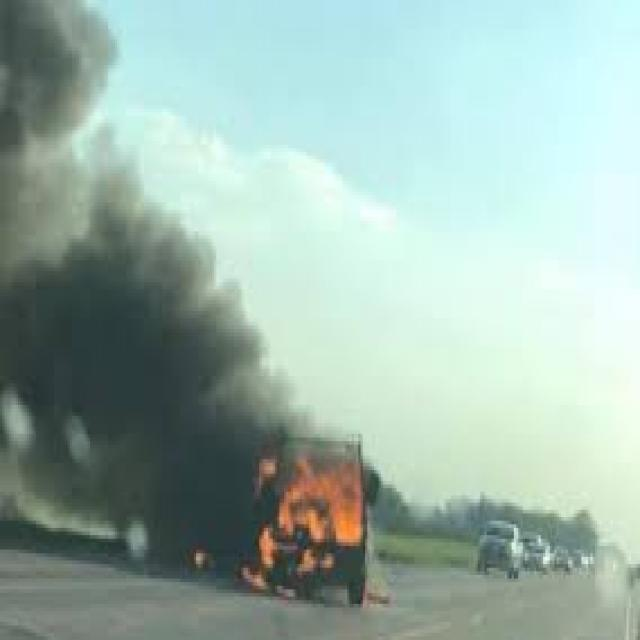fire: (241, 448, 374, 596)
smoke: (2, 152, 379, 607), (2, 4, 122, 148)
